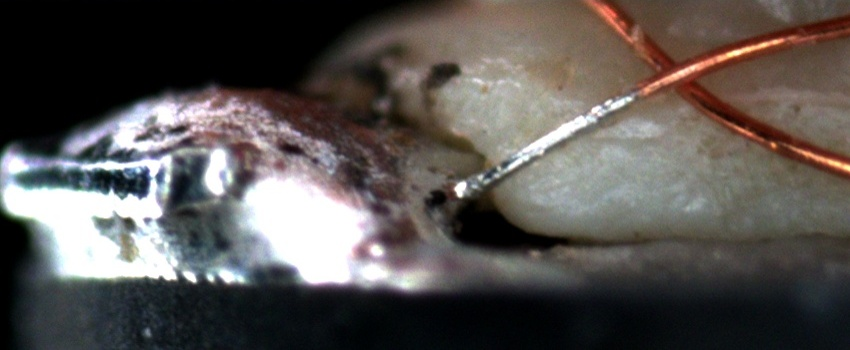CL: (633, 42, 723, 106)
DL: (679, 78, 850, 112), (540, 118, 660, 156)
TS: (457, 89, 639, 199)
